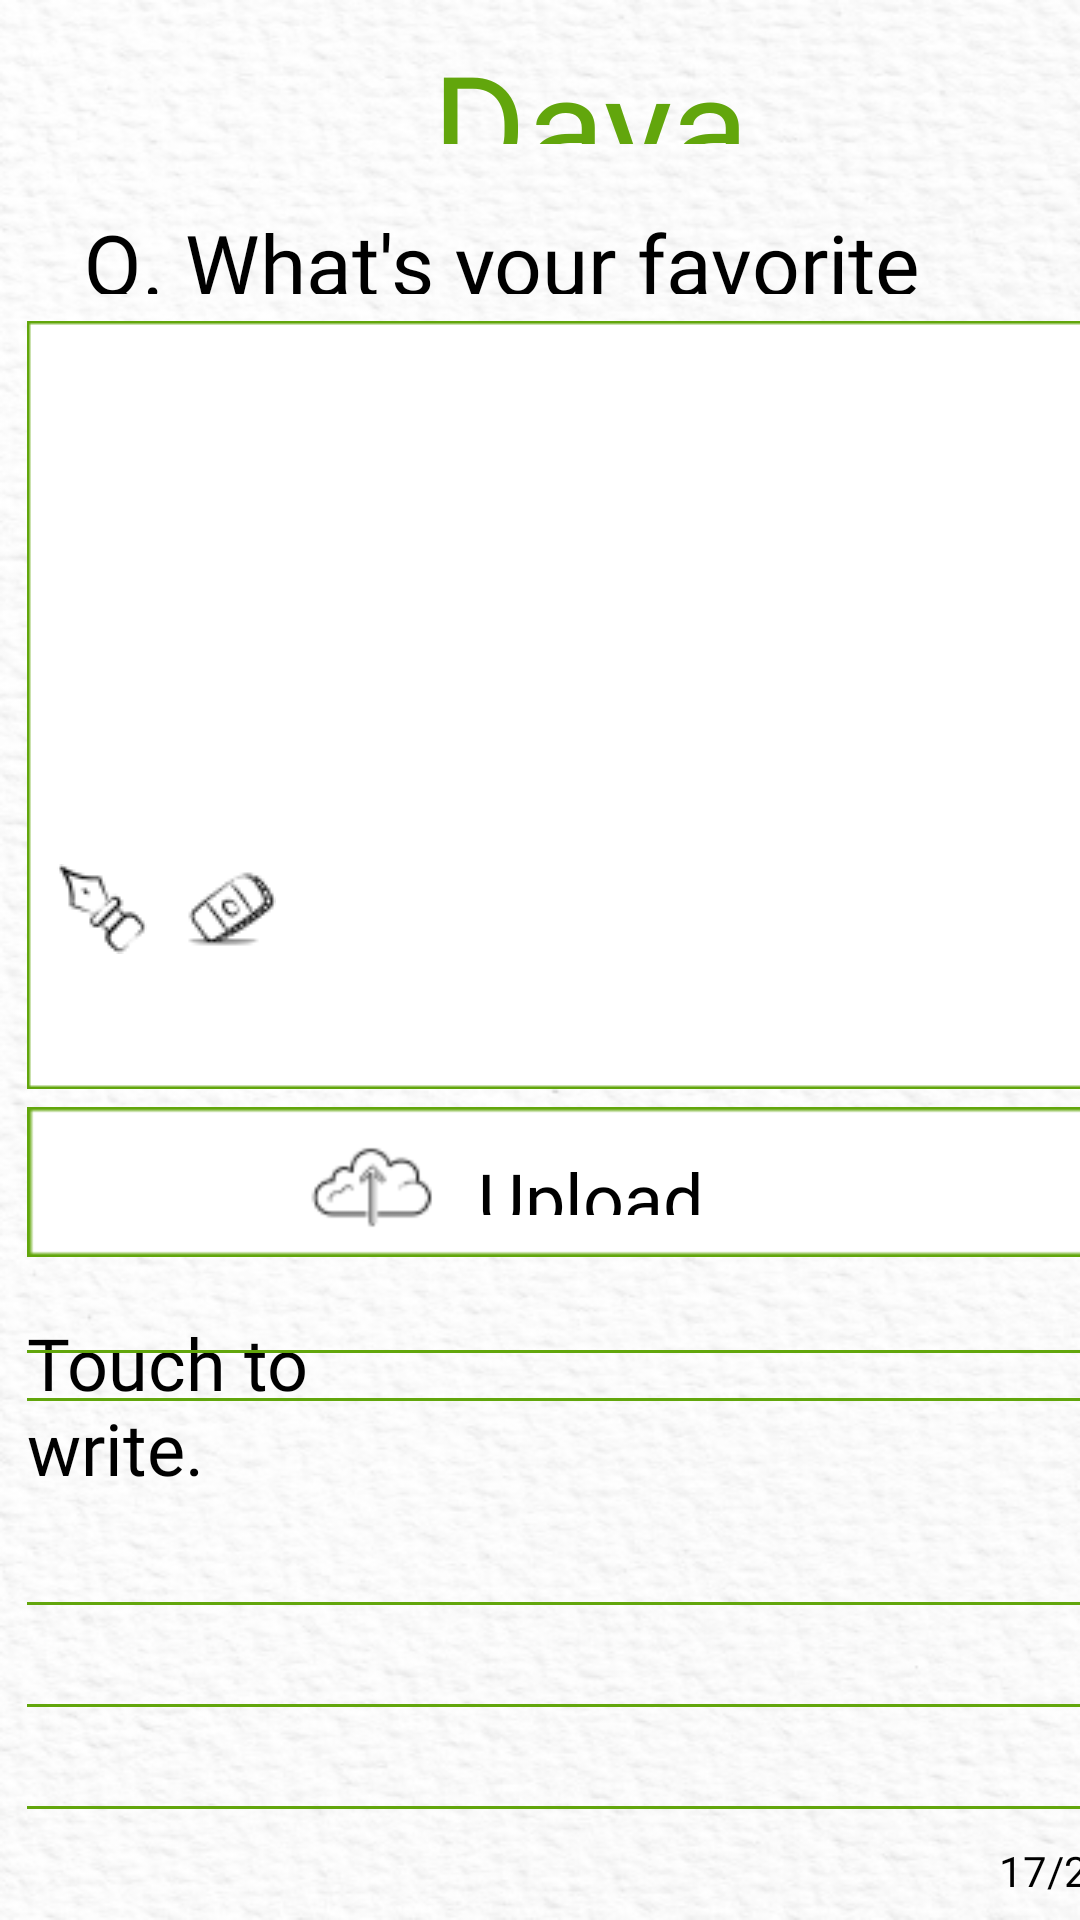

Point at icon controls on the screen. Image size 1080 × 1920, points as (x=x, y=y).
cloud: (x=372, y=1187)
eraser: (x=232, y=909)
pen: (x=102, y=909)
